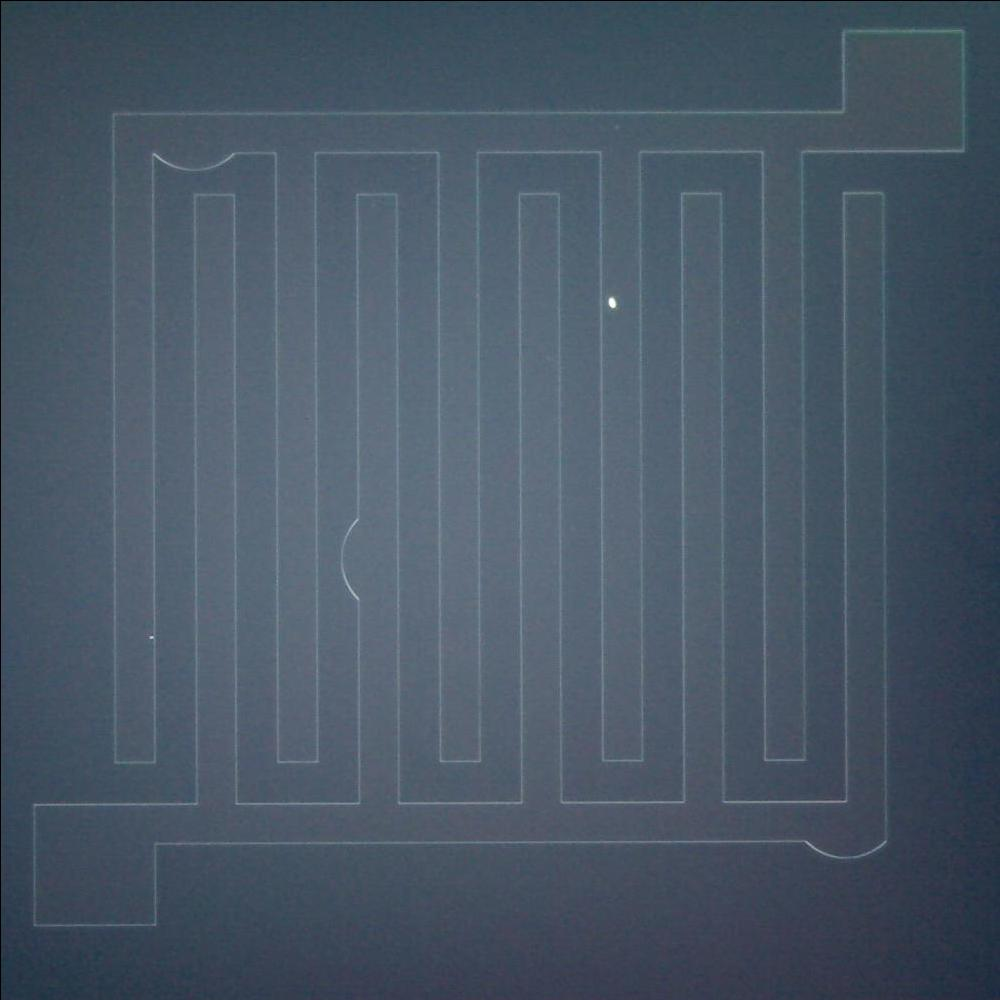curve circuit: (332, 495, 372, 616), (133, 138, 246, 178), (786, 826, 888, 868)
spot: (600, 290, 624, 316)
